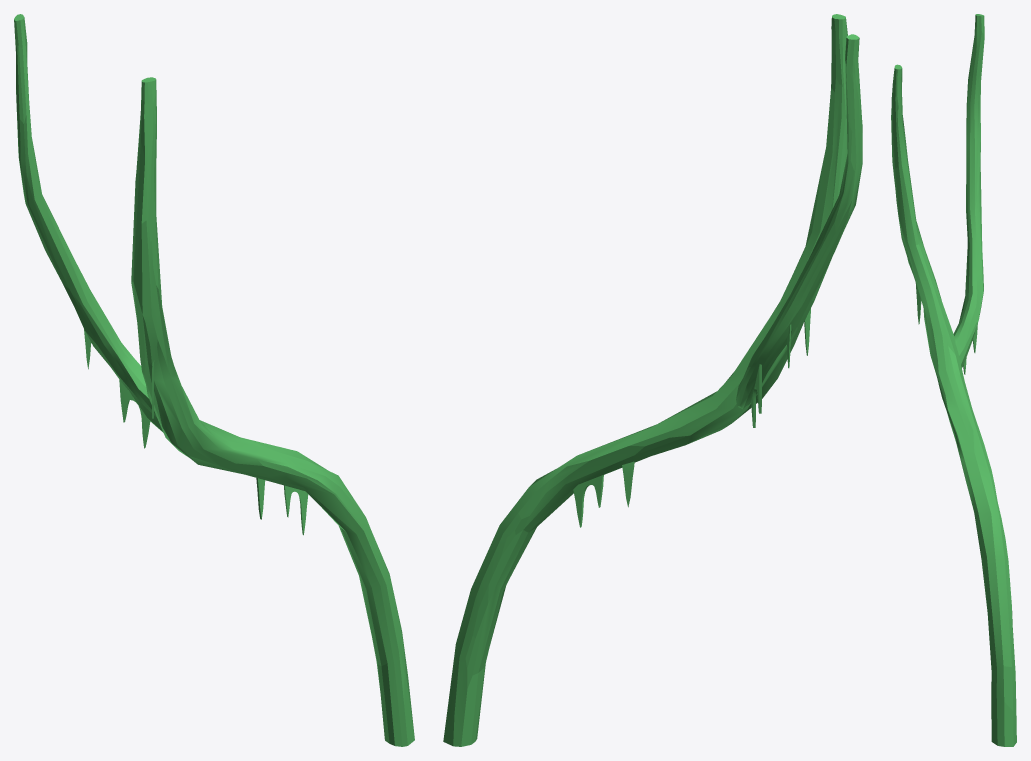
The model's file is jungle_trunk_G.fbx.
3 views of the same model, side by side, from view 1: azimuth 30°, elevation 25°; view 2: azimuth 150°, elevation 25°; view 3: azimuth 270°, elevation 25° (orthographic). The views are drawn at different scales.
Parts seen in each view (by area): view 1: jungle_trunk_G_A, jungle_trunk_G_B; view 2: jungle_trunk_G_A, jungle_trunk_G_B; view 3: jungle_trunk_G_A, jungle_trunk_G_B.
Boxes of the visible parts, <box> form: jungle_trunk_G_A: <box>131,77,414,746</box>; jungle_trunk_G_B: <box>14,14,163,432</box>; jungle_trunk_G_A: <box>443,14,847,746</box>; jungle_trunk_G_B: <box>736,34,862,408</box>; jungle_trunk_G_A: <box>891,64,1016,746</box>; jungle_trunk_G_B: <box>953,14,984,367</box>.
Bounding box in the file's own units: 596 × 1136 × 220.
